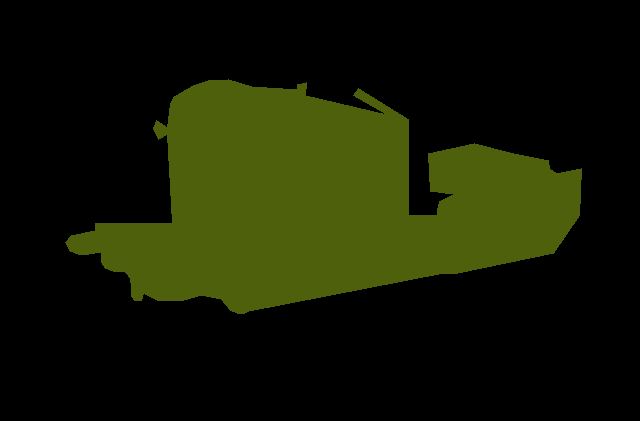Train: (65, 79, 582, 313)
